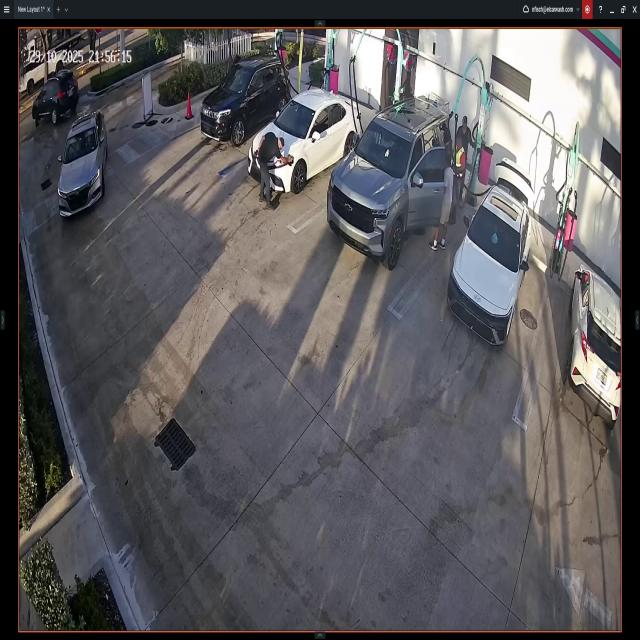Car: (330, 95, 458, 266), (449, 164, 534, 346), (248, 92, 358, 190), (568, 262, 623, 428), (202, 54, 290, 145), (58, 110, 106, 220), (32, 74, 80, 124)
